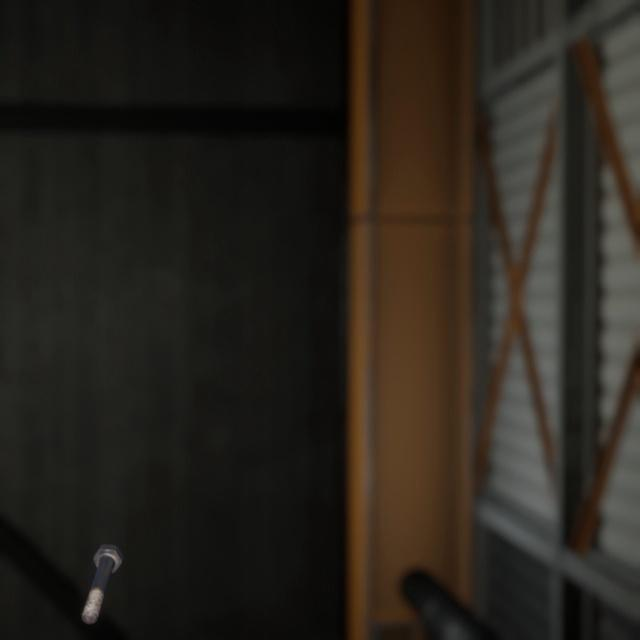bolt: (77, 517, 128, 605)
